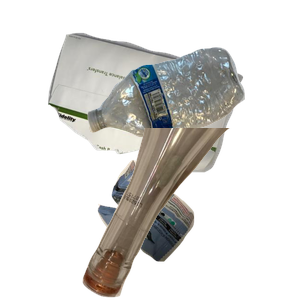glass: (80, 128, 300, 300)
paper: (45, 30, 281, 195)
plastic: (85, 45, 300, 175)
trash: (95, 157, 282, 300)
